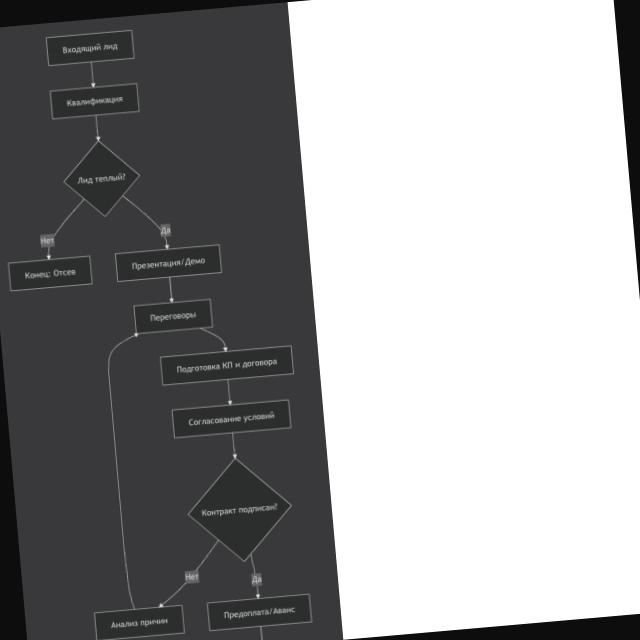arrow: (100, 332, 162, 608), (152, 540, 223, 607), (41, 198, 88, 260), (122, 192, 168, 252), (200, 326, 228, 354), (250, 553, 262, 598), (228, 432, 238, 458), (87, 61, 96, 87), (224, 380, 233, 404), (167, 277, 174, 302)
diamond: (189, 459, 290, 560), (65, 141, 138, 215)
rectangle: (160, 346, 293, 385), (173, 400, 291, 438), (116, 244, 222, 281), (208, 595, 312, 631), (50, 84, 139, 119), (47, 30, 134, 65), (94, 606, 184, 639), (8, 256, 92, 291), (134, 299, 212, 333)
text_region: (160, 222, 171, 236), (40, 235, 54, 244)
